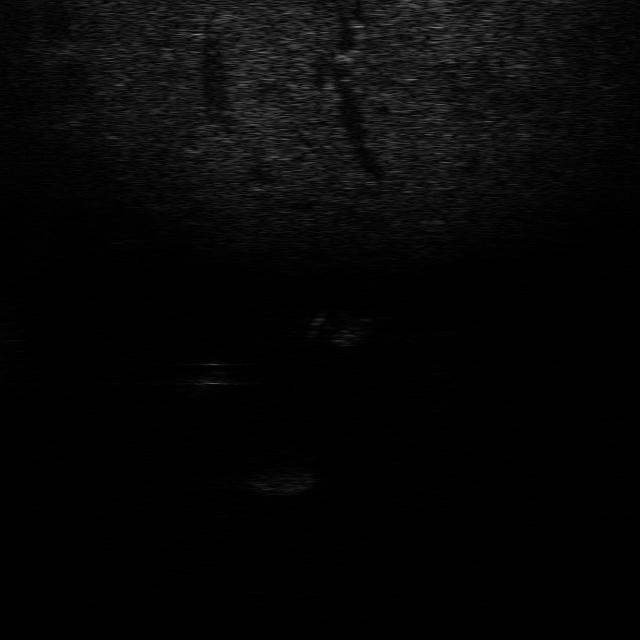ball: (239, 451, 315, 496)
circle cage: (305, 308, 377, 350)
human body: (186, 360, 238, 392)
